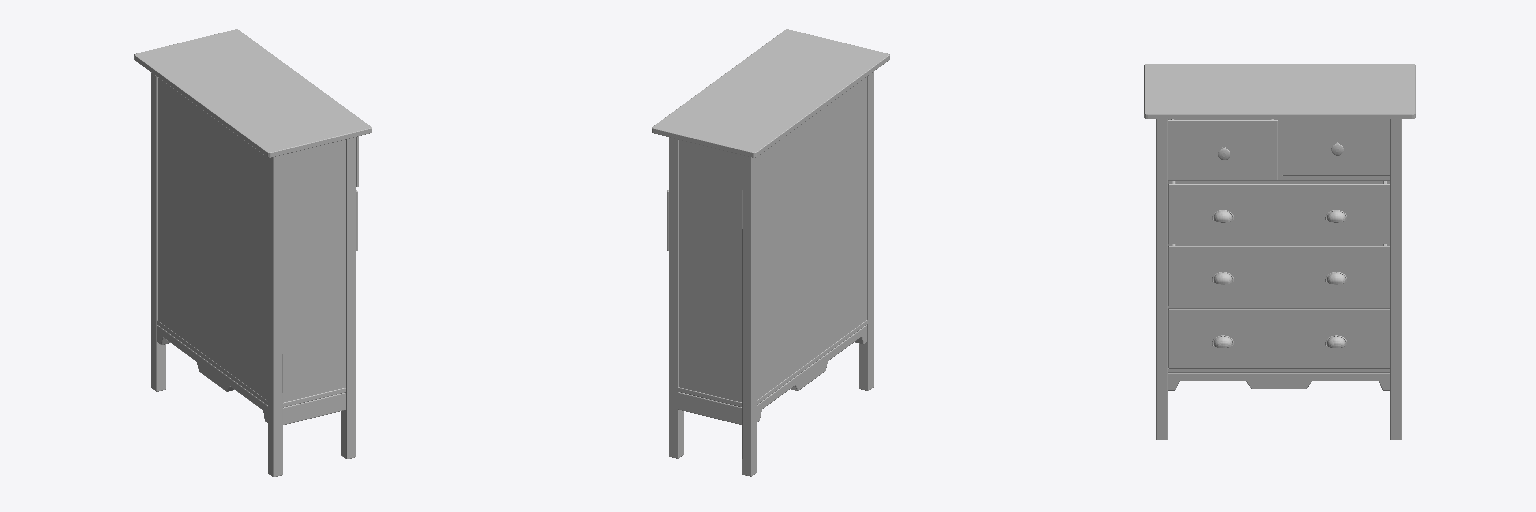
File: dresser.obj
3 views of the same model, side by side, from view 1: azimuth 30°, elevation 25°; view 2: azimuth 150°, elevation 25°; view 3: azimuth 270°, elevation 25° (orthographic).
Parts seen in each view (by area): view 1: uploads_files_[number redacted]_DRAWER_(1); view 2: uploads_files_[number redacted]_DRAWER_(1); view 3: uploads_files_[number redacted]_DRAWER_(1).
Part boxes in pixels (bbox=[...]): uploads_files_[number redacted]_DRAWER_(1): bbox=[134, 29, 371, 476]; uploads_files_[number redacted]_DRAWER_(1): bbox=[652, 29, 889, 476]; uploads_files_[number redacted]_DRAWER_(1): bbox=[1144, 64, 1415, 439].
Bounding box in the file's own units: 0.6741 × 1.94 × 1.43.